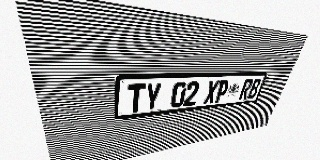0: (170, 82, 187, 108)
2: (183, 81, 200, 106)
B: (247, 78, 262, 99)
P: (214, 80, 230, 103)
R: (238, 79, 254, 100)
T: (127, 83, 145, 113)
X: (203, 80, 220, 104)
Y: (144, 83, 162, 111)
